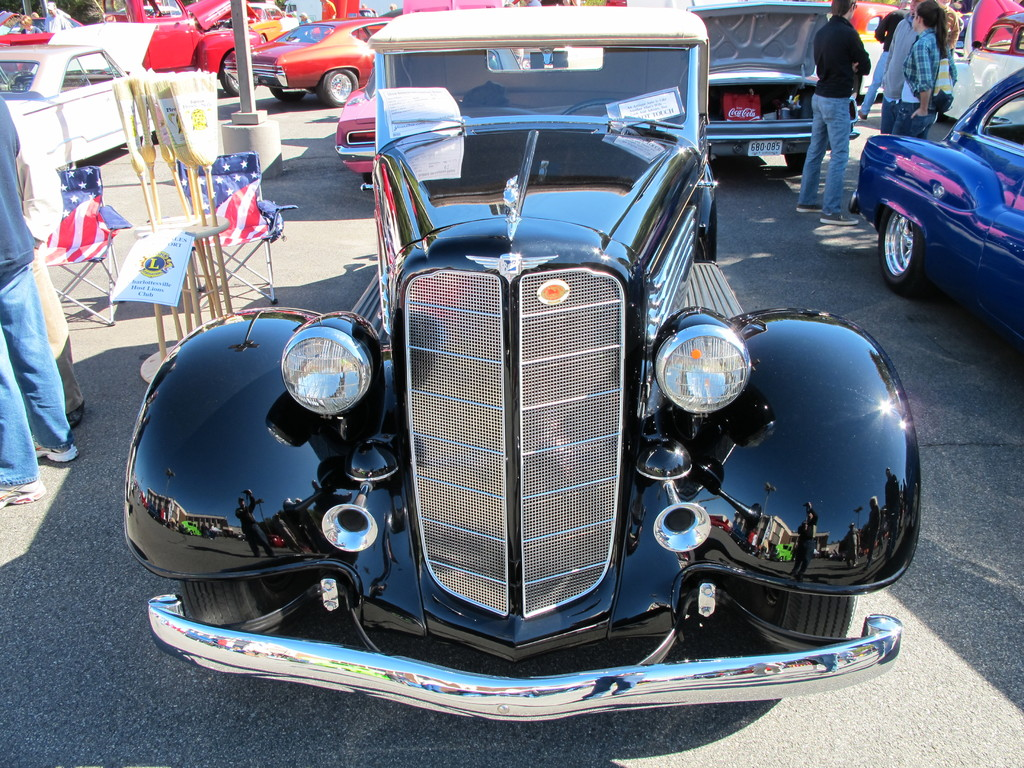Car: (0, 0, 1023, 723)
